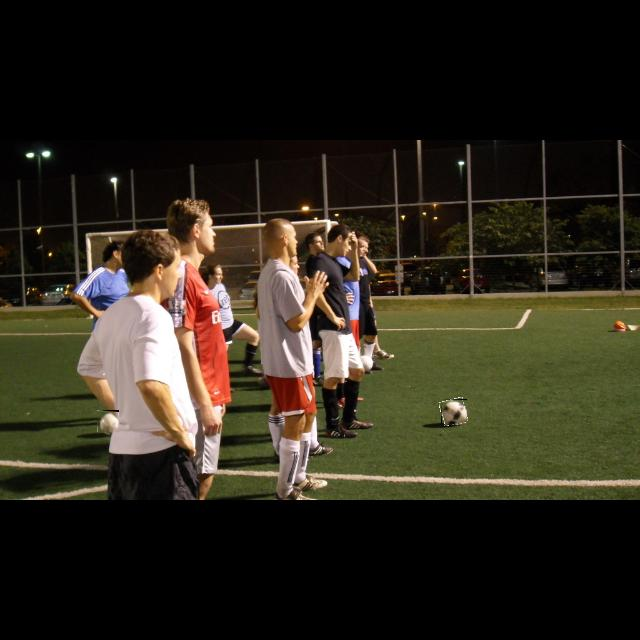Football: (441, 399, 467, 425), (97, 410, 119, 432)
